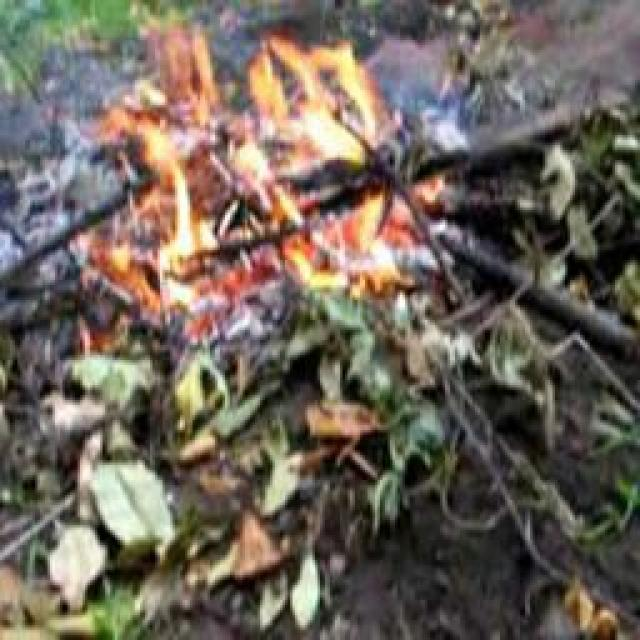Fire: (91, 28, 436, 312)
